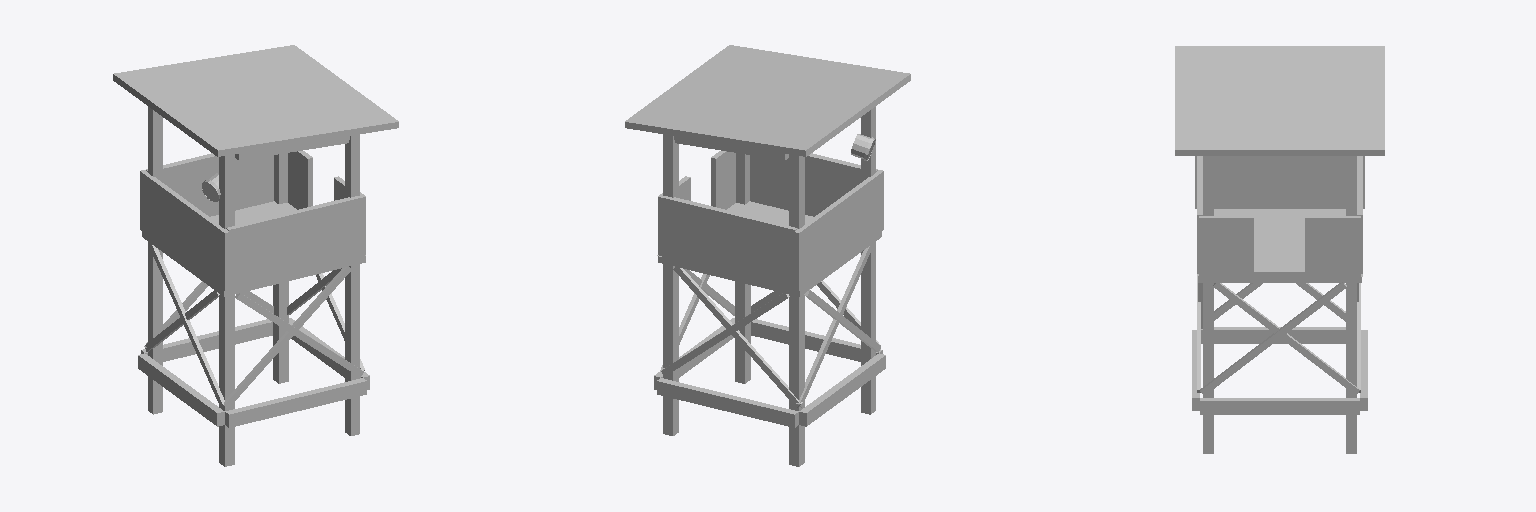
Rendered from tower 1.obj.
The picture shows the model from 3 angles: view 1: azimuth 30°, elevation 25°; view 2: azimuth 150°, elevation 25°; view 3: azimuth 270°, elevation 25°; orthographic projection.
Parts seen in each view (by area): view 1: polymsh10; view 2: polymsh10; view 3: polymsh10.
Boxes of the visible parts, box(x1,y1,x2,y2) form: polymsh10: box(113, 45, 398, 466); polymsh10: box(625, 45, 910, 466); polymsh10: box(1175, 46, 1384, 453).
Size of the model in its own units: 33.51 by 58.4 by 33.53.